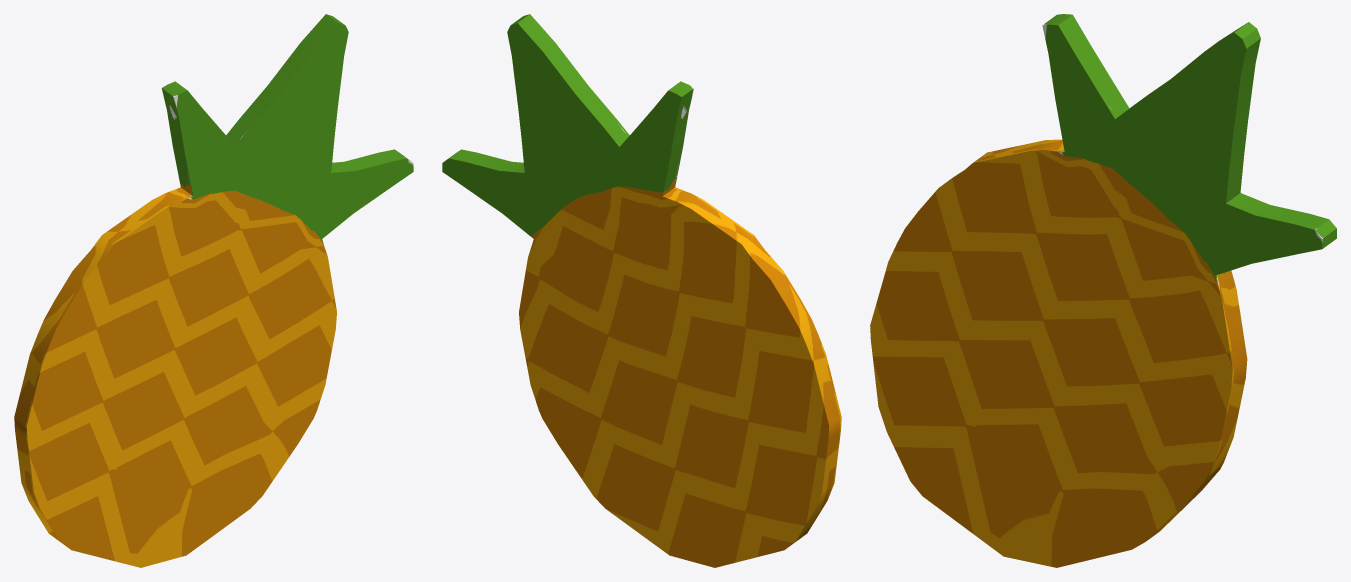
Rendered from Pineapple.fbx.
3 views of the same model, side by side, from view 1: azimuth 30°, elevation 25°; view 2: azimuth 150°, elevation 25°; view 3: azimuth 330°, elevation 25° (orthographic). The views are drawn at different scales.
Visible parts, largest first — view 1: polySurface1; view 2: polySurface1; view 3: polySurface1.
Part boxes in pixels (x1,y1,x2,y2): polySurface1: [14, 14, 413, 567]; polySurface1: [442, 14, 841, 567]; polySurface1: [870, 14, 1336, 567].
Bounding box in the file's own units: 19.67 × 24.12 × 1.1.
Materials: 1 (1 with a texture image).
